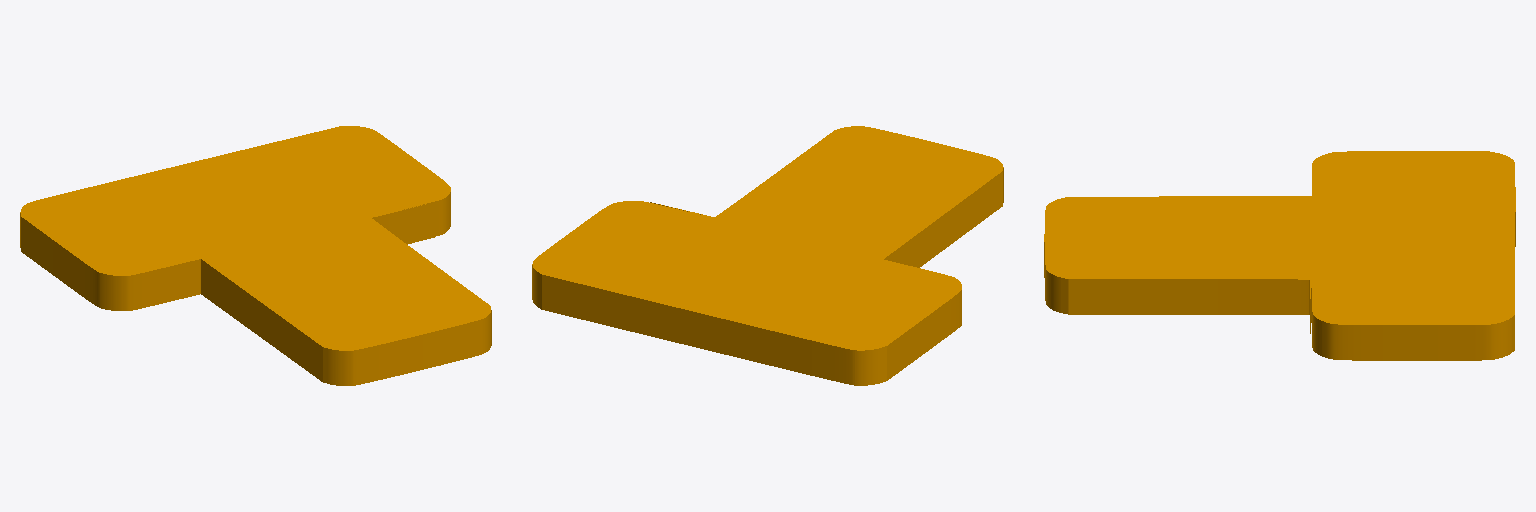
The robot description file, URDF, robot "i4.urdf":
<?xml version="1.0" encoding="utf-8"?>
<robot name="i4.urdf">
  <link name="baseLink">
    <contact>
      <lateral_friction value="0.5"/>
      <rolling_friction value="0.001"/>
      <spinning_friction value="0.001"/>
    </contact>
    <inertial>
      <origin rpy="0 0 0" xyz="0 0 0"/>
      <mass value="0.07"/>
      <inertia ixx="1" ixy="0" ixz="0" iyy="1" iyz="0" izz="1"/>
    </inertial>
    <visual>
      <origin rpy="0 0 0" xyz="0 0 0"/>
      <geometry>
        <mesh filename="i4.obj" scale="0.15 0.15 0.1"/> <!-- Scale x and y by 3.5, z by 1.0 -->
      </geometry>
    </visual>
    <collision>
      <origin rpy="0 0 0" xyz="0 0 0"/>
      <geometry>
        <mesh filename="i4.obj" scale="0.15 0.15 0.1"/> <!-- Scale x and y by 3.5, z by 1.0 -->
      </geometry>
    </collision>
  </link>
</robot>

--- What the picture shows (computed from the rendered views, not written in the file) ---
Views: 3 orthographic renders of the robot side by side, from view 1: azimuth 30°, elevation 25°; view 2: azimuth 150°, elevation 25°; view 3: azimuth 270°, elevation 25°.
Robot: i4.urdf — 1 links, 0 joints (none); root link baseLink; default pose: all joints at 0.
Links seen in each view (by area): view 1: baseLink; view 2: baseLink; view 3: baseLink.
Boxes of the visible links, box(x1,y1,x2,y2) form: baseLink: box(20, 126, 491, 385); baseLink: box(532, 126, 1003, 385); baseLink: box(1044, 151, 1515, 360).
Size in the robot's own frame: 0.4132 by 0.4731 by 0.0394 metres.
Meshes: 1 distinct files referenced, 1 mesh visuals loaded (1 OBJ).